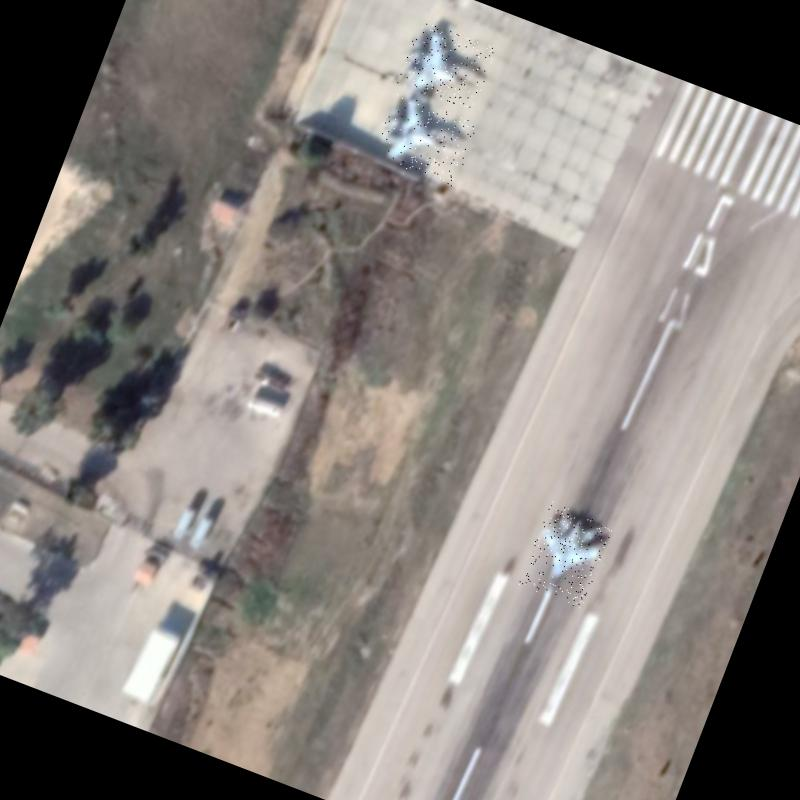A1: (370, 91, 478, 187), (518, 500, 614, 608), (396, 19, 496, 112)
